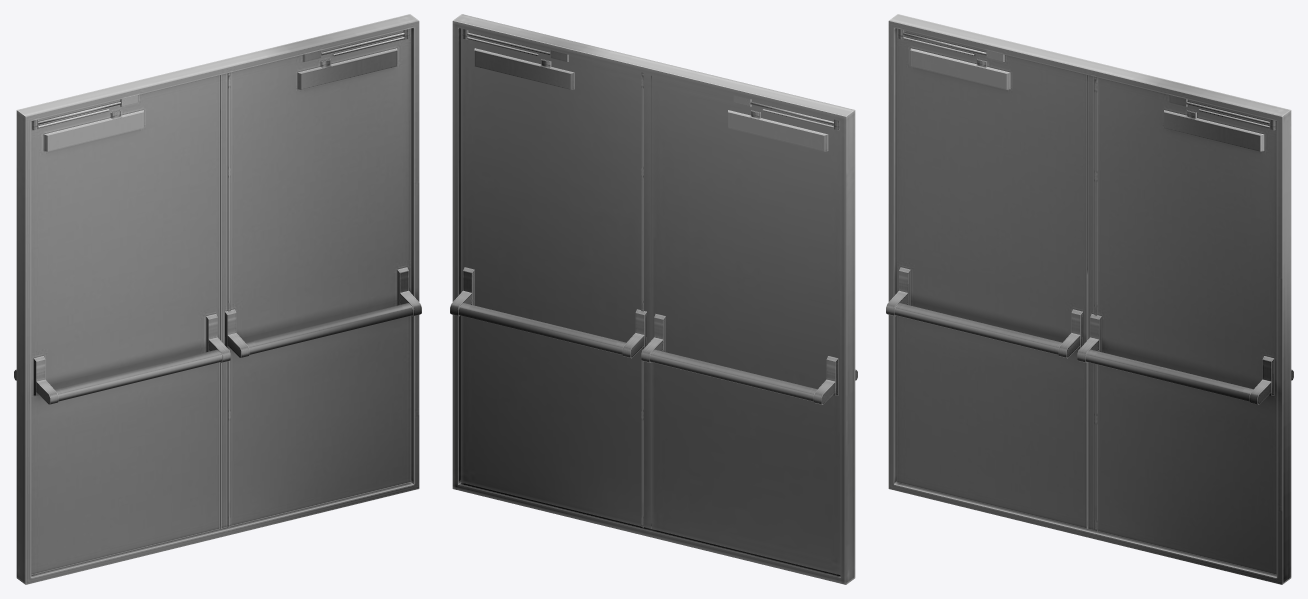
Rendered from Door_DoubleMetal.gltf.
The picture shows the model from 3 angles, left to right: view 1: azimuth 30°, elevation 25°; view 2: azimuth 150°, elevation 25°; view 3: azimuth 330°, elevation 25°; orthographic projection.
Visible parts, largest first — view 1: Door_DoubleMetal; view 2: Door_DoubleMetal; view 3: Door_DoubleMetal.
Part boxes in pixels (<box>): Door_DoubleMetal: <box>14,14,421,584</box>; Door_DoubleMetal: <box>450,14,857,584</box>; Door_DoubleMetal: <box>886,14,1293,584</box>.
Size of the model in its own units: 22 by 25 by 3.5.
1 material, 1 textured.
